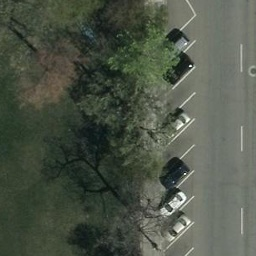car: (163, 215, 189, 240), (159, 191, 185, 216), (162, 164, 188, 189), (163, 114, 189, 139), (168, 57, 194, 82), (162, 34, 188, 59)
